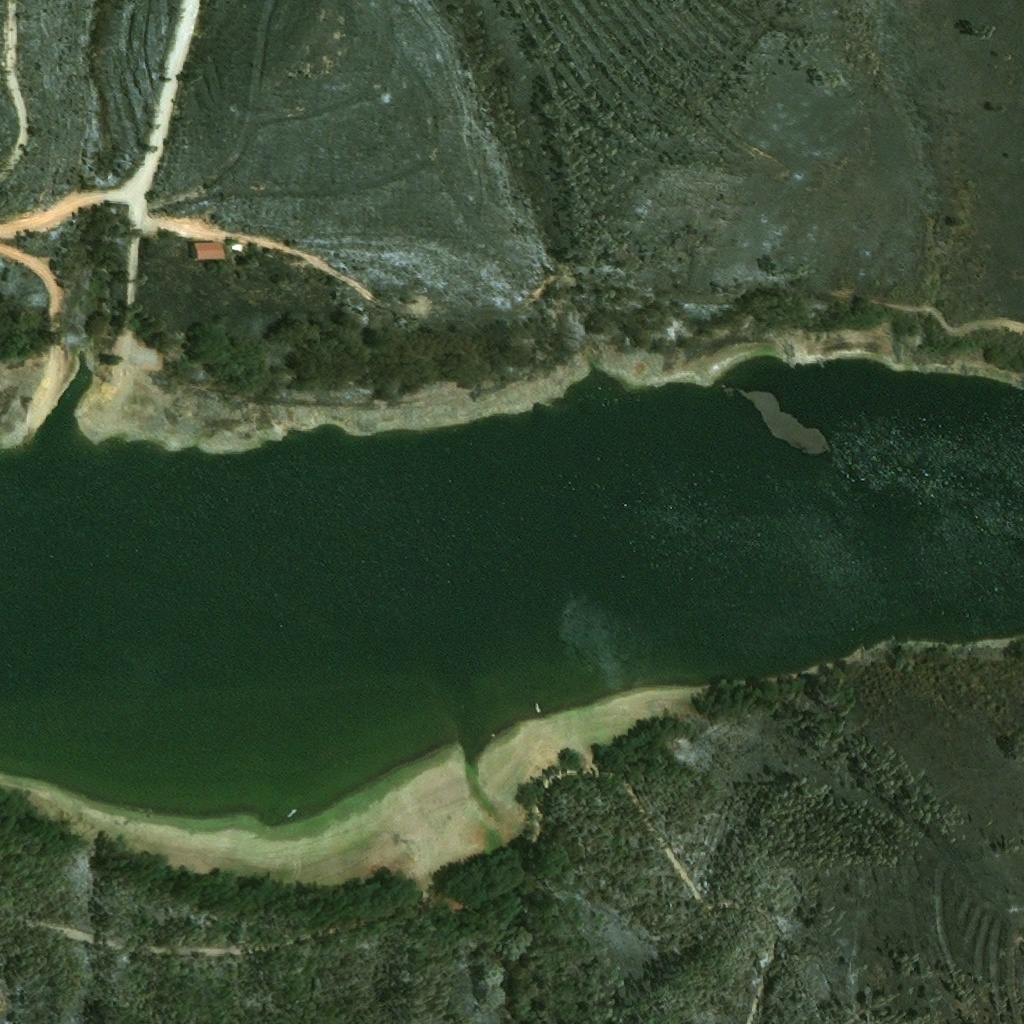0 no-damage: (192, 240, 227, 259)
4 un-classified: (0, 992, 11, 1016)
